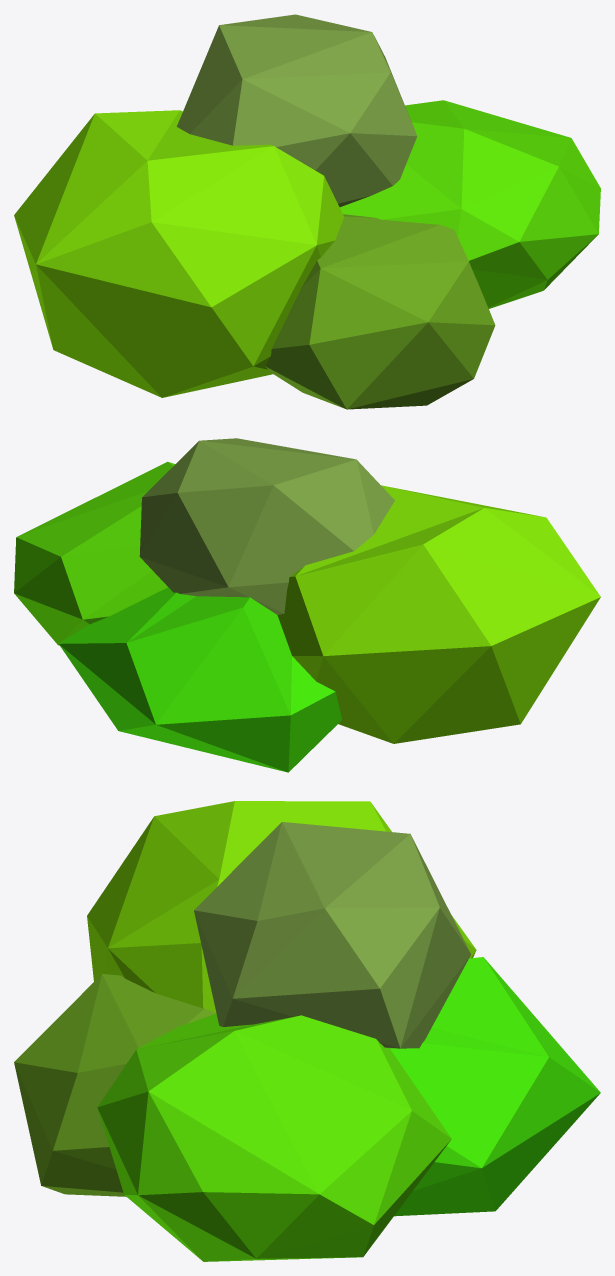
The model's file is cust5.fbx.
3 renders of one model, top to bottom at view 1: azimuth 30°, elevation 25°; view 2: azimuth 150°, elevation 25°; view 3: azimuth 270°, elevation 25°, orthographic. The views are drawn at different scales.
Parts seen in each view (by area): view 1: Icosphere.022; view 2: Icosphere.022; view 3: Icosphere.022.
Boxes of the visible parts, x1,y1,x2,y2 form: Icosphere.022: [14, 14, 600, 409]; Icosphere.022: [14, 438, 600, 772]; Icosphere.022: [14, 801, 600, 1261].
Size of the model in its own units: 166 by 80.54 by 127.
